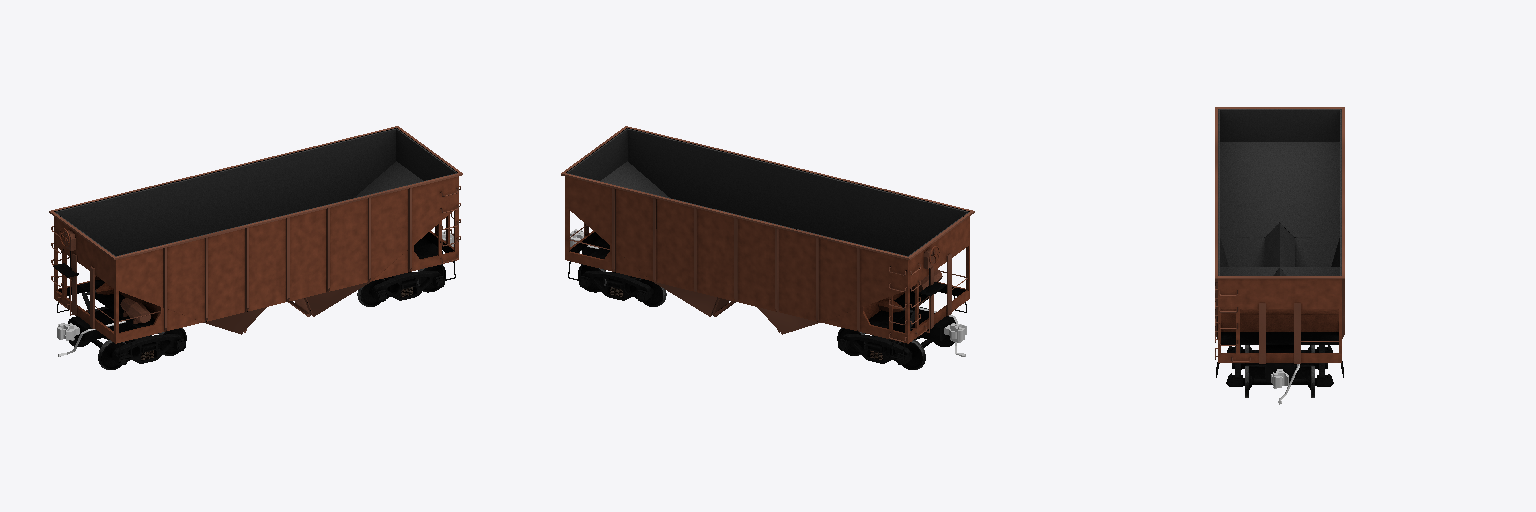
3 renders of one model, left to right at view 1: azimuth 30°, elevation 25°; view 2: azimuth 150°, elevation 25°; view 3: azimuth 270°, elevation 25°, orthographic.
Parts seen in each view (by area): view 1: SHELL_MAIN, FRAME_MAIN.001, BOGEY_FRONT_Cube.001, BOGEY_REAR_Cube.027, BOGEY_FRONT_WHEEL_2_Cylinder.000; view 2: SHELL_MAIN, FRAME_MAIN.001, BOGEY_REAR_Cube.027, BOGEY_FRONT_Cube.001, BOGEY_FRONT_WHEEL_2_Cylinder.000; view 3: SHELL_MAIN, BOGEY_REAR_Cube.027, FRAME_MAIN.001, BOGEY_REAR_WHEEL_1_Cylinder.014.
Part boxes in pixels (bbox=[...]): SHELL_MAIN: bbox=[49, 126, 462, 359]; FRAME_MAIN.001: bbox=[57, 231, 453, 356]; BOGEY_FRONT_Cube.001: bbox=[68, 306, 185, 365]; BOGEY_REAR_Cube.027: bbox=[372, 271, 444, 302]; BOGEY_FRONT_WHEEL_2_Cylinder.000: bbox=[69, 322, 128, 369]; SHELL_MAIN: bbox=[561, 126, 974, 359]; FRAME_MAIN.001: bbox=[570, 229, 966, 356]; BOGEY_REAR_Cube.027: bbox=[579, 271, 651, 302]; BOGEY_FRONT_Cube.001: bbox=[838, 307, 955, 365]; BOGEY_FRONT_WHEEL_2_Cylinder.000: bbox=[895, 336, 954, 369]; SHELL_MAIN: bbox=[1215, 107, 1344, 377]; BOGEY_REAR_Cube.027: bbox=[1226, 345, 1333, 386]; FRAME_MAIN.001: bbox=[1266, 345, 1299, 404]; BOGEY_REAR_WHEEL_1_Cylinder.014: bbox=[1243, 366, 1316, 397].
Size of the model in its own units: 10.48 by 3.23 by 3.
Materials: 5 (4 with a texture image).